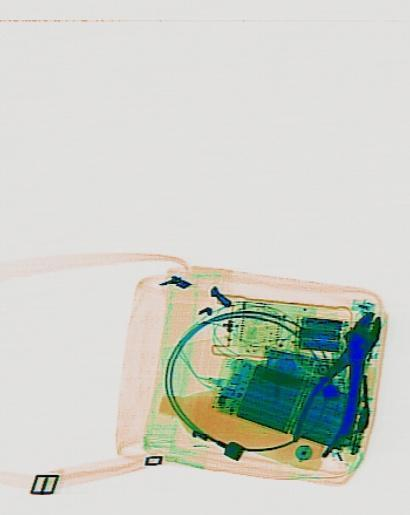Pliers: (284, 298, 398, 465)
